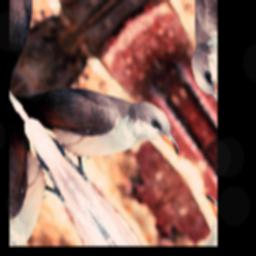Cuckoo: (13, 17, 187, 224)
